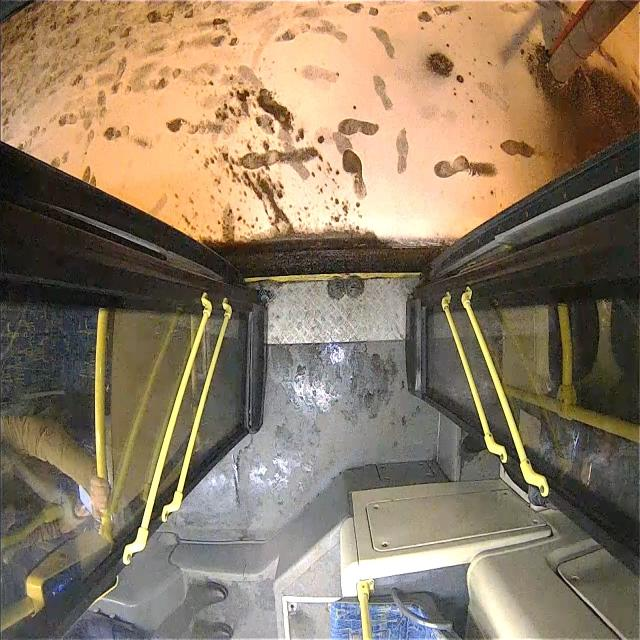bus-door: (0, 143, 268, 635), (408, 133, 640, 569)
